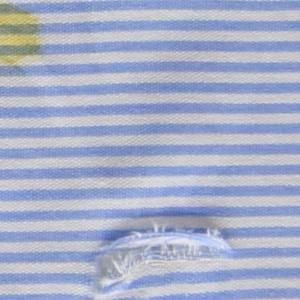Damage: (78, 223, 245, 300)
Oil Stain: (1, 1, 43, 74)
